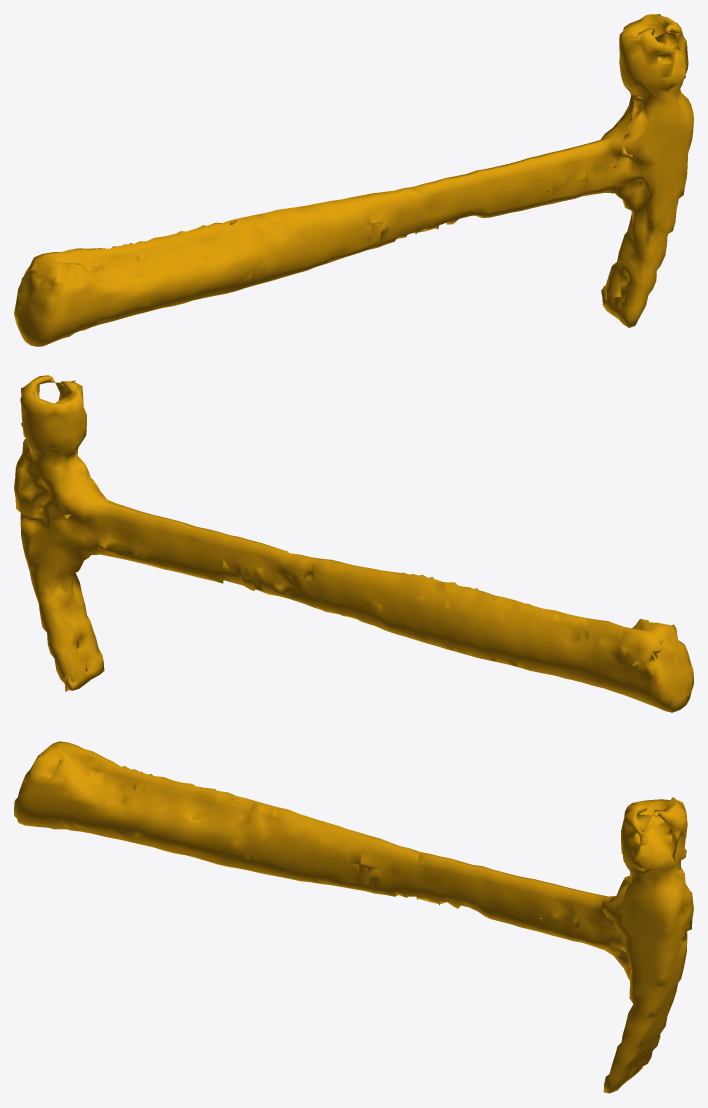
File: model_origin.obj
The picture shows the model from 3 angles, top to bottom: view 1: azimuth 30°, elevation 25°; view 2: azimuth 150°, elevation 25°; view 3: azimuth 330°, elevation 25°; orthographic projection.
Size of the model in its own units: 0.9991 by 0.4168 by 0.1004.
